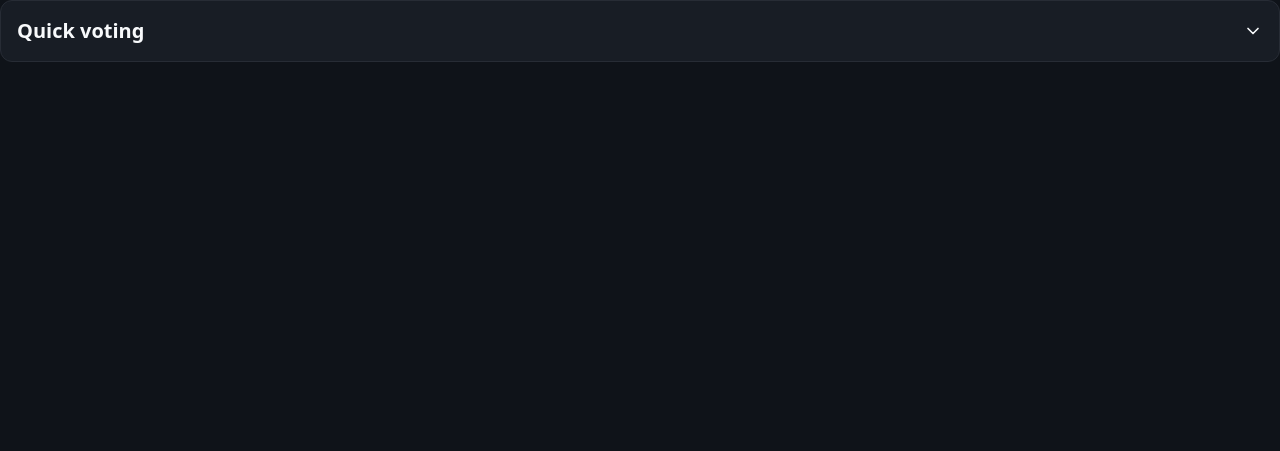
QuickVotingPanel › advances after saving and finishes after the last vote
Click the heading "Quick voting". click: [81, 30]
box: [17,17,1263,44]
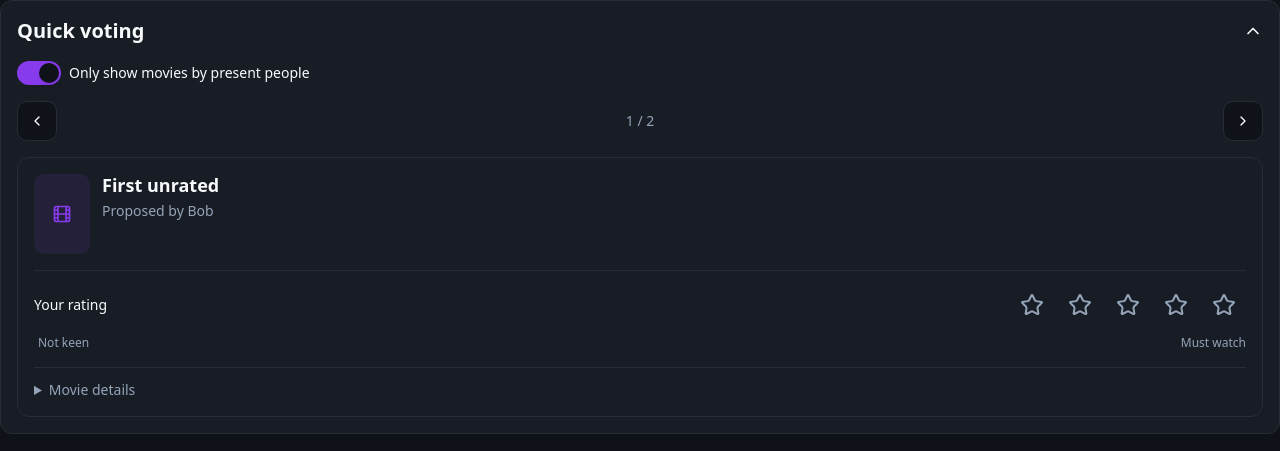
Click the button named "Rate 5 stars". click: [1224, 305]
box: [1202,283,1246,327]
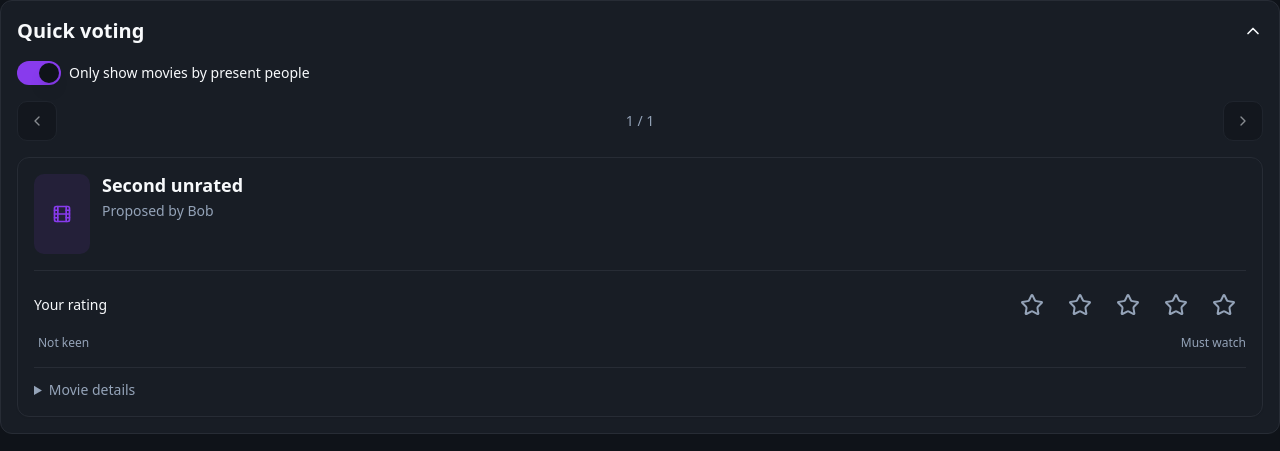
Result: the heading "Second unrated" is shown at [102,174,243,196]
Click the button named "Rate 5 stars". click: [1224, 305]
box: [1202,283,1246,327]
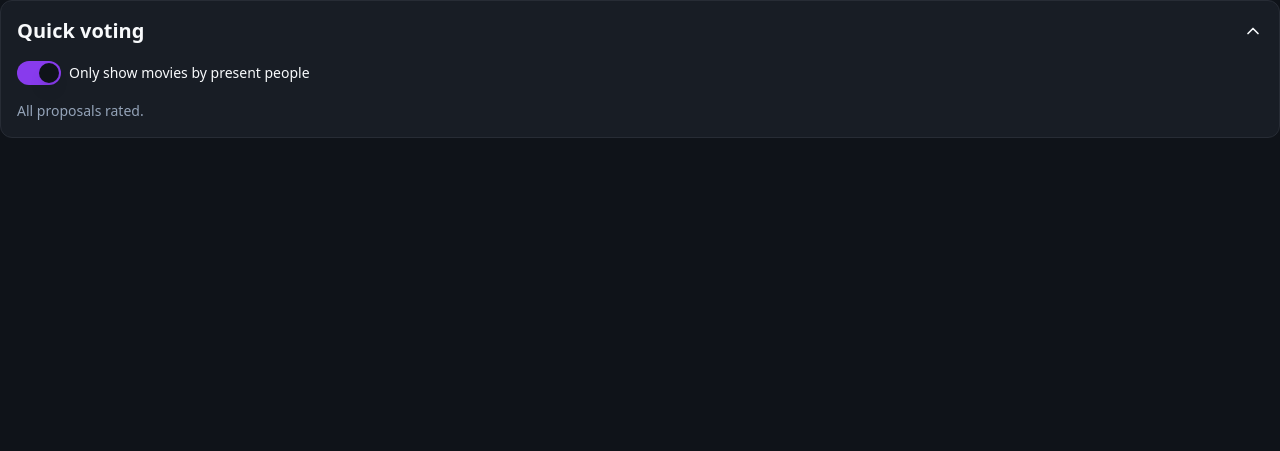
Result: the text "All proposals rated." is shown at [17,101,144,120]
